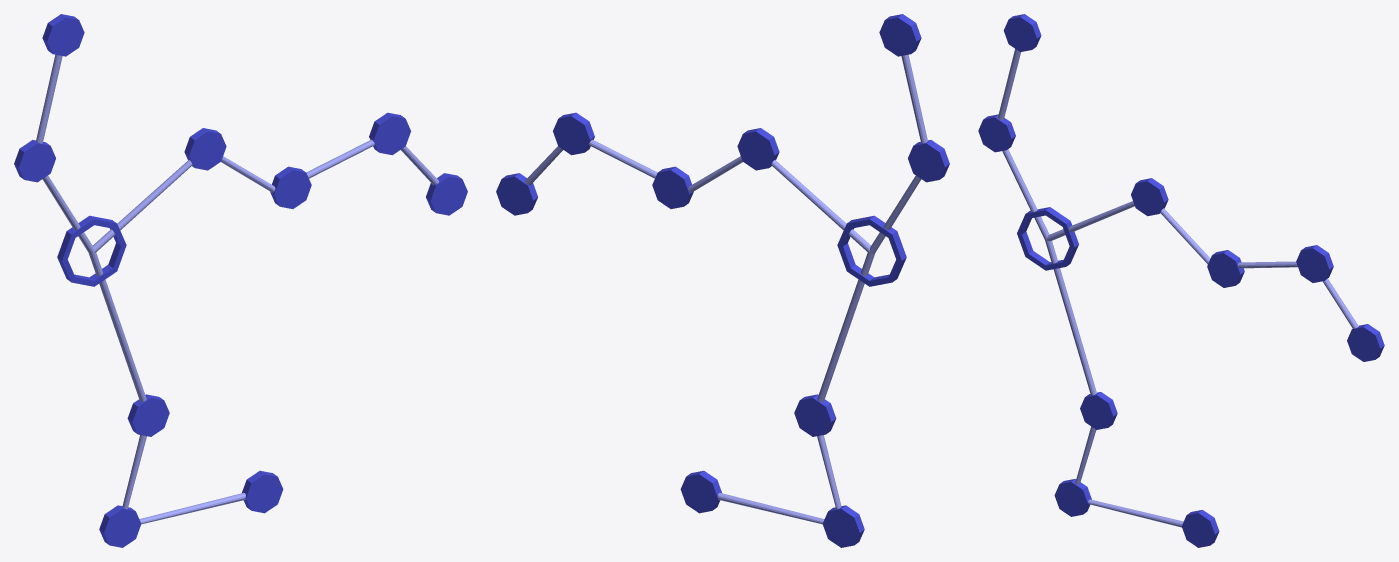
The model's file is ui_life_bone.fbx.
The picture shows the model from 3 angles, left to right: view 1: azimuth 30°, elevation 25°; view 2: azimuth 150°, elevation 25°; view 3: azimuth 330°, elevation 25°; orthographic projection. The views are drawn at different scales.
Visible parts, largest first — view 1: Circle; view 2: Circle; view 3: Circle.
Boxes of the visible parts, bbox=[...] form: Circle: bbox=[14, 14, 467, 547]; Circle: bbox=[496, 14, 949, 547]; Circle: bbox=[978, 14, 1384, 547].
Bounding box in the file's own units: 3163 × 3663 × 60.
